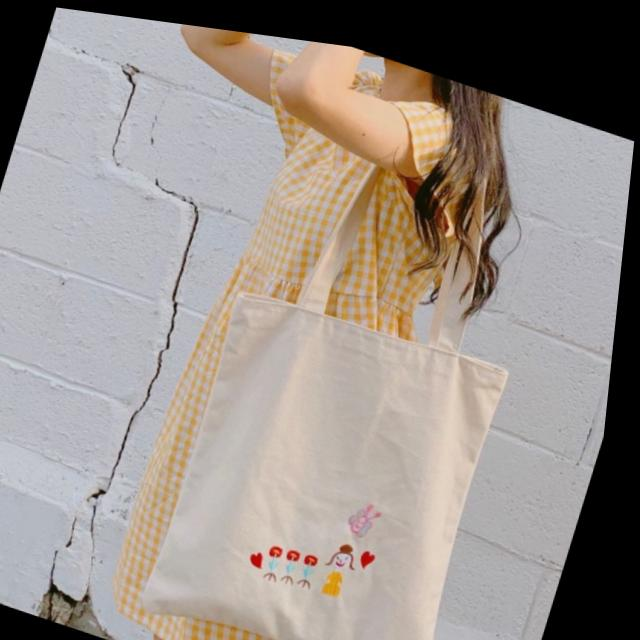ecobag: (118, 67, 611, 640)
